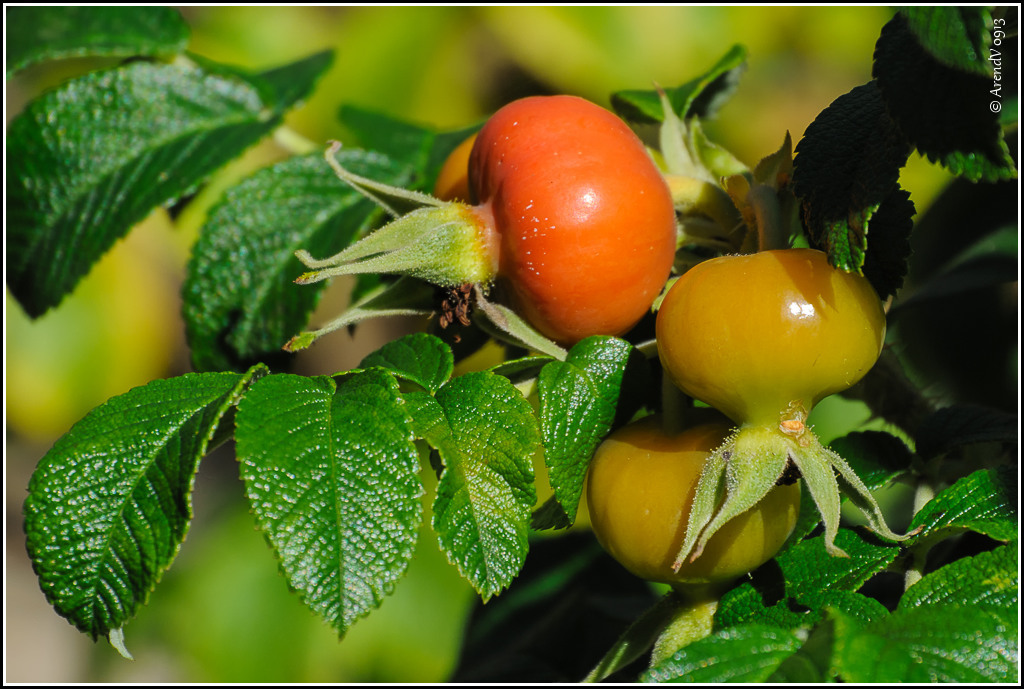Tomato: (656, 248, 890, 572), (462, 89, 684, 334), (588, 416, 798, 591)
